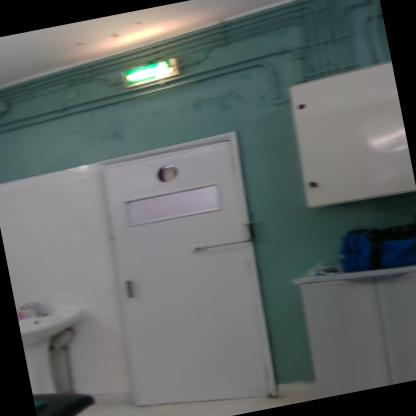closed: (84, 119, 306, 415)
